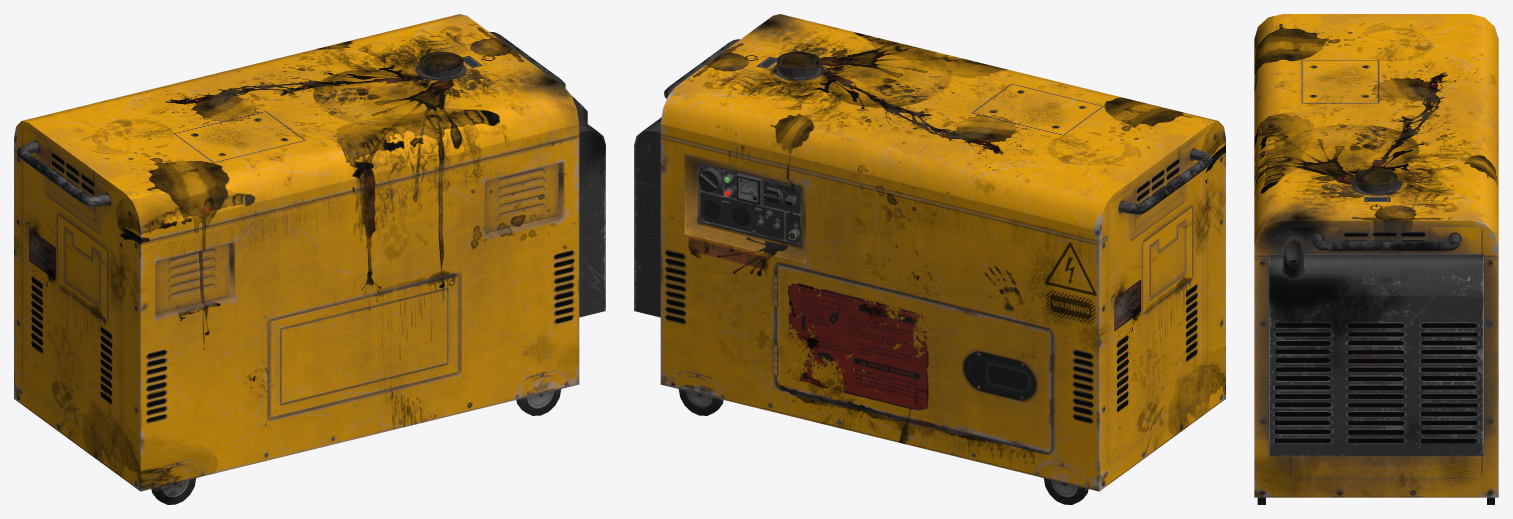
The model's file is game_asset_generator.glb.
The picture shows the model from 3 angles, left to right: view 1: azimuth 30°, elevation 25°; view 2: azimuth 150°, elevation 25°; view 3: azimuth 270°, elevation 25°; orthographic projection. The views are drawn at different scales.
Visible parts, largest first — view 1: BG_2_p1_low, BG_1_p1_low, BG_1_p3_low, BG_1_p10_low, BG_1_p11_low; view 2: BG_2_p1_low, BG_1_p1_low, BG_1_p3_low, BG_1_p10_low, BG_1_p11_low, BG_1_p6_low; view 3: BG_2_p1_low, BG_1_p1_low, BG_1_p3_low, BG_1_p11_low, BG_1_p2_low.
Part boxes in pixels (x1,y1,x2,y2): BG_2_p1_low: (14, 14, 579, 491); BG_1_p1_low: (579, 124, 605, 317); BG_1_p3_low: (17, 31, 565, 206); BG_1_p10_low: (151, 389, 561, 504); BG_1_p11_low: (419, 51, 463, 77); BG_2_p1_low: (660, 14, 1225, 491); BG_1_p1_low: (634, 117, 661, 317); BG_1_p3_low: (664, 39, 1212, 214); BG_1_p10_low: (678, 389, 1088, 504); BG_1_p11_low: (776, 51, 820, 77); BG_1_p6_low: (737, 173, 763, 205); BG_2_p1_low: (1254, 14, 1498, 497); BG_1_p1_low: (1269, 254, 1483, 456); BG_1_p3_low: (1312, 234, 1460, 251); BG_1_p11_low: (1355, 168, 1397, 193); BG_1_p2_low: (1283, 236, 1303, 278).
Size of the model in its own units: 4.52 by 2.8 by 2.
1 material, 1 textured.
